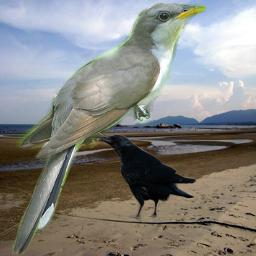Crow: (96, 133, 196, 224)
Cuckoo: (12, 3, 206, 254)
